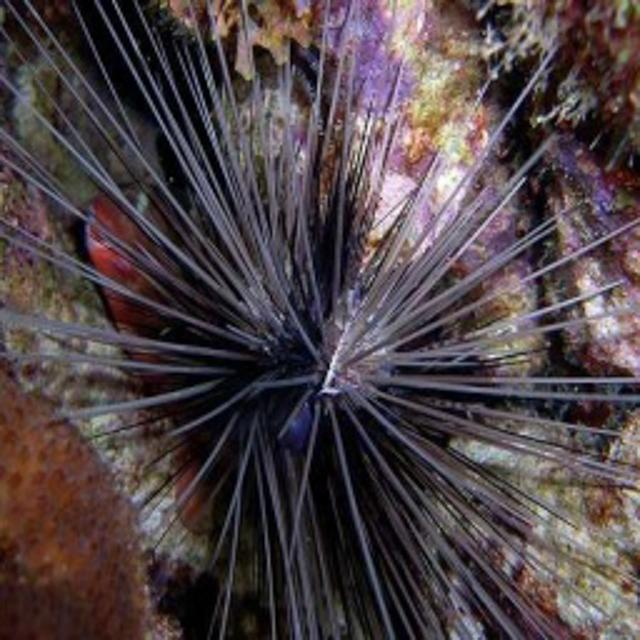Urchin: (6, 1, 640, 638)
